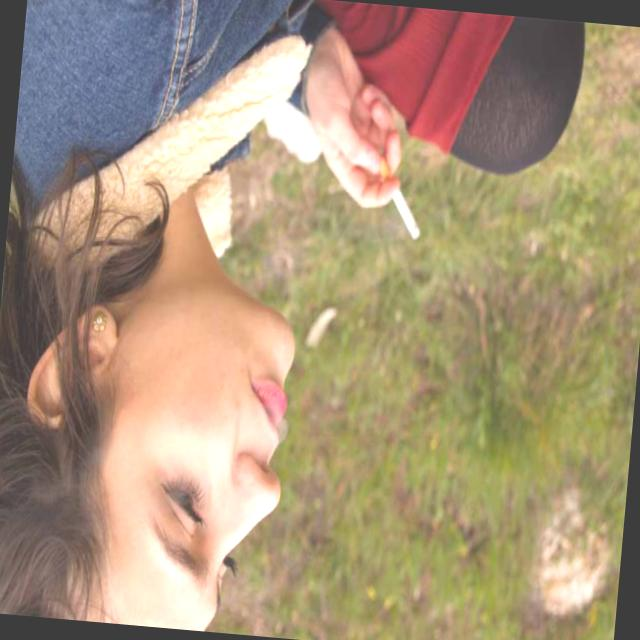smoke: (367, 155, 428, 244)
